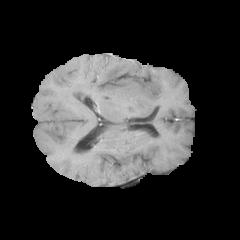glioma: (102, 60, 161, 106)
